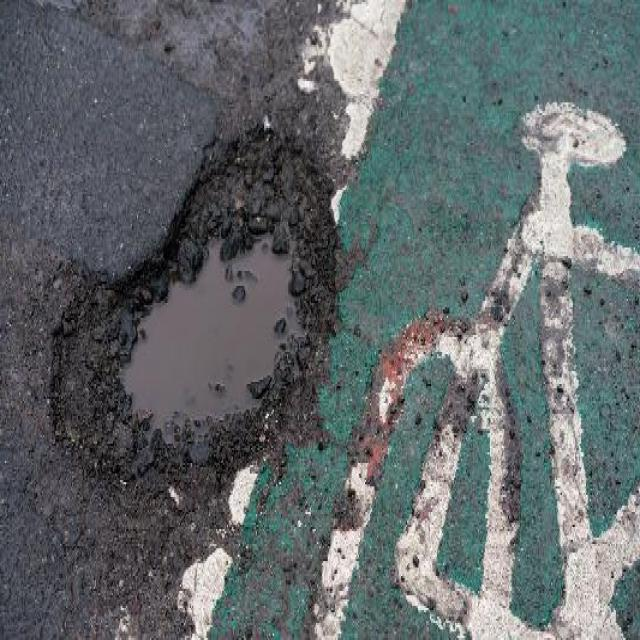pothole: (0, 93, 433, 553), (49, 122, 346, 506)
